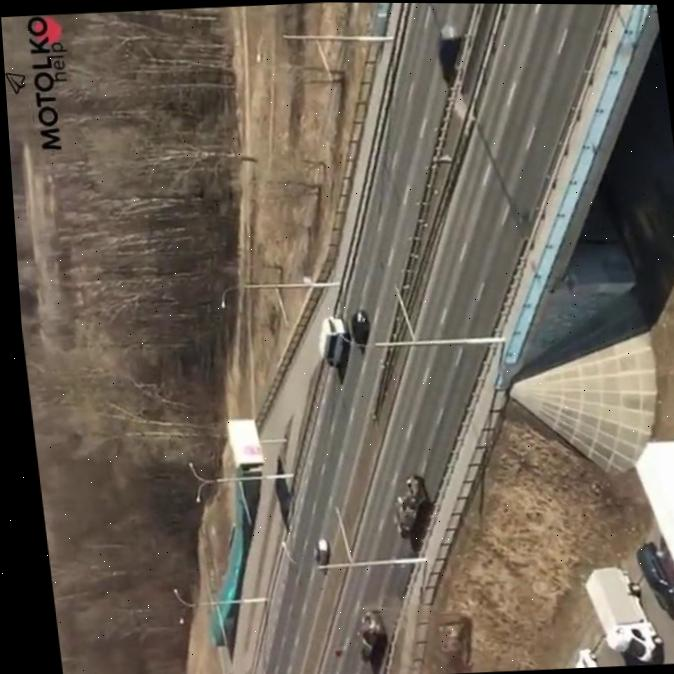car: (633, 541, 674, 611), (314, 316, 352, 368), (433, 23, 468, 71), (348, 310, 371, 345), (571, 648, 603, 668), (311, 538, 331, 569)
tank: (387, 475, 437, 540), (351, 609, 390, 663)
truck: (582, 565, 665, 666), (631, 438, 674, 602)
